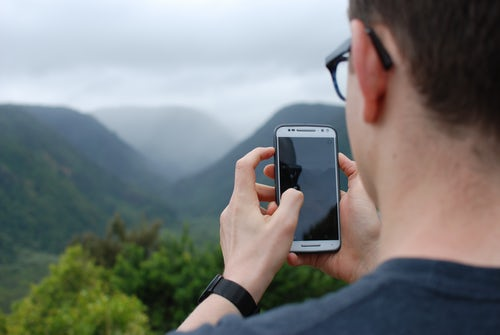phone: (273, 123, 345, 254)
